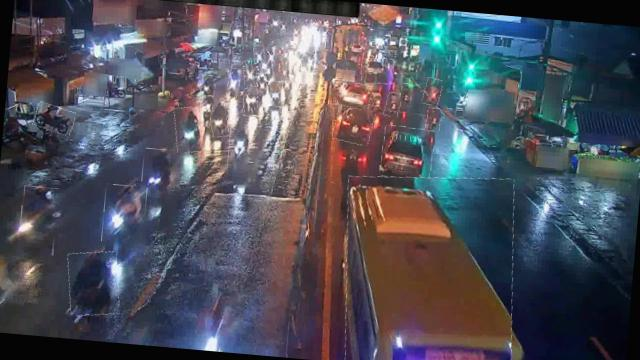Bike: (65, 249, 122, 318), (100, 184, 148, 246), (18, 186, 59, 256), (172, 106, 204, 154), (142, 148, 176, 190), (34, 103, 76, 134), (227, 126, 250, 172), (208, 99, 230, 139), (243, 86, 264, 118), (201, 76, 222, 105), (422, 78, 442, 105), (198, 96, 214, 128), (268, 80, 286, 108), (242, 88, 259, 117), (384, 93, 402, 118), (425, 107, 442, 132), (227, 68, 241, 98), (370, 88, 384, 111), (242, 61, 254, 86), (256, 72, 268, 95), (252, 44, 265, 63), (400, 84, 412, 103)
Bus: (335, 168, 523, 360)
Car: (380, 126, 435, 182), (332, 100, 376, 146), (337, 81, 372, 110), (360, 56, 396, 84)
